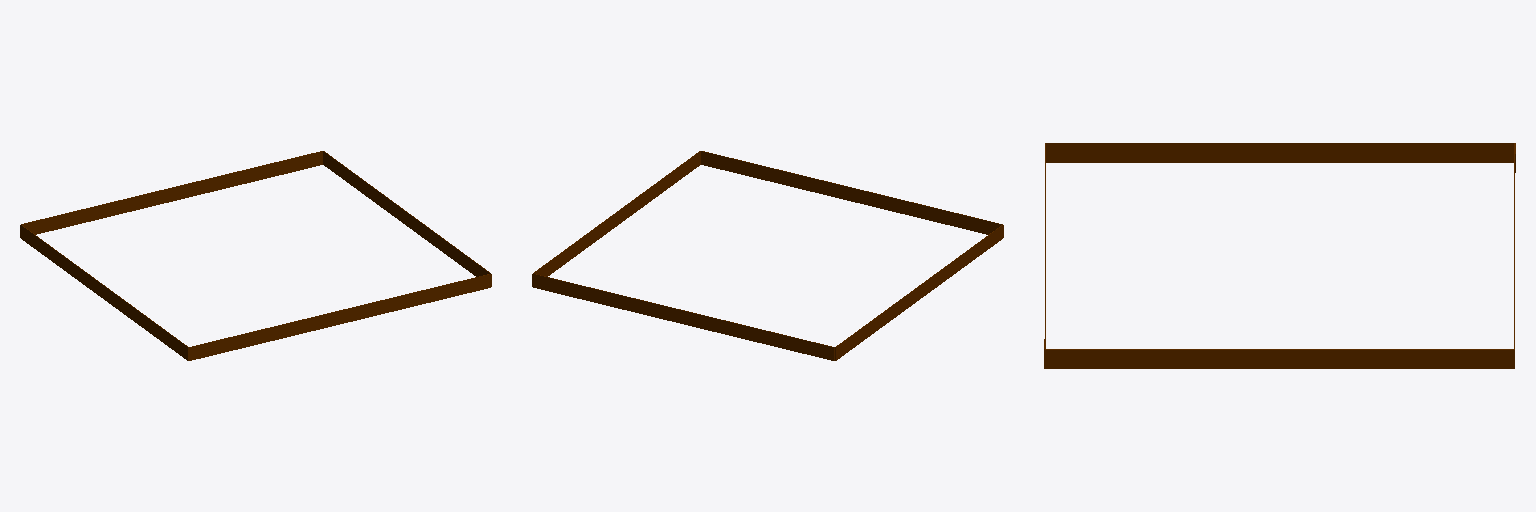
The robot description file, URDF, robot "arena":
<robot name="arena">
<link name="field_1">
<collision>
<origin xyz="0 0 0" rpy="0 -0 0" />
<geometry>
<mesh filename="goalsally.stl" />
</geometry>
<material name="goalsally_material">
<color rgba="0 0 1 1.0"/>
</material>
</collision>
<collision>
<origin xyz="0 0 0" rpy="0 -0 0" />
<geometry>
<mesh filename="goalsopponent.stl"/>
</geometry>
<material name="goalsopponent_material">
<color rgba="1 0 0 1.0"/>
</material>
</collision>
<collision>
<origin xyz="0 0 0" rpy="0 -0 0" />
<geometry>
<mesh filename="goalsallyback.stl"/>
</geometry>
<material name="goalsallyback_material">
<color rgba="0 0 1 1.0"/>
</material>
</collision>
<collision>
<origin xyz="0 0 0" rpy="0 -0 0" />
<geometry>
<mesh filename="goalsopponentback.stl"/>
</geometry>
<material name="goalsopponentback_material">
<color rgba="1 0 0 1.0"/>
</material>
</collision>
<collision>
<origin xyz="0 0 0" rpy="0 -0 0" />
<geometry>
<mesh filename="field.stl" scale="2 3 3"/>
</geometry>
<material name="field_material">
<color rgba="0.1 1 0.1 1.0"/>
</material>
</collision>
<collision>
<origin xyz="-3.06664e-16 -6.37325e-14 0" rpy="0 -0 0" />
<geometry>
<mesh filename="lines.stl" scale="2 3 3"/>
</geometry>
<material name="lines_material">
<color rgba="0.917647 0.917647 0.917647 1.0"/>
</material>
</collision>

<collision>
<origin xyz="0 0 0" rpy="0 0 0"/>
<geometry>
<box size="0.05 22 1"/>
</geometry>
<material name="Cyan1">
<color rgba="0 0 0 1.0"/>
</material>
</collision>

<inertial>
<origin xyz="0 0 0" rpy="0 0 0"/>
<mass value="0" />
<inertia ixx="0" ixy="0"  ixz="0" iyy="0" iyz="0" izz="0" />
</inertial>
<visual><geometry><box size="0 0 0" /></geometry></visual>
</link>

<link name="field_1_1">
<inertial>
<origin xyz="0 0 0" rpy="0 0 0" />
<mass value="0" />
<inertia ixx="0" ixy="0" ixz="0" iyy="0" iyz="0" izz="0" />
</inertial>
<visual>
<origin xyz="0 0 0" rpy="0 -0 0" />
<geometry>
<mesh filename="goalsally.stl"/>
</geometry>
<material name="field_1_1_visual_material">
<color rgba="0 0 1 1.0"/>
</material>
</visual>
</link>
<joint name="field_1_1_fixing" type="fixed">
<origin xyz="-3 0 0" rpy="0 -0 0" />
<parent link="field_1" />
<child link="field_1_1" />
<axis xyz="0 0 1"/>
<limit effort="1" velocity="20" />
<joint_properties friction="0.0"/>
</joint>

<link name="field_1_2">
<inertial>
<origin xyz="0 0 0" rpy="0 0 0" />
<mass value="0" />
<inertia ixx="0" ixy="0" ixz="0" iyy="0" iyz="0" izz="0" />
</inertial>
<visual>
<origin xyz="0 0 0" rpy="0 0 0" />
<geometry>
<mesh filename="goalsally.stl"/>
</geometry>
<material name="field_1_2_visual_material">
<color rgba="1 1 0 1.0"/>
</material>
</visual>
</link>
<joint name="field_1_2_fixing" type="fixed">
<origin xyz="0 3 0" rpy="0 0 -1.57" />
<parent link="field_1" />
<child link="field_1_2" />
<axis xyz="0 0 1"/>
<limit effort="1" velocity="20" />
<joint_properties friction="0.0"/>
</joint>




<link name="field_1_3">
<inertial>
<origin xyz="0 0 0" rpy="0 0 0" />
<mass value="0" />
<inertia ixx="0" ixy="0" ixz="0" iyy="0" iyz="0" izz="0" />
</inertial>
<visual>
<origin xyz="0 0 0" rpy="0 -0 0" />
<geometry>
<mesh filename="goalsopponent.stl"/>
</geometry>
<material name="field_1_3_visual_material">
<color rgba="1 0 0 1.0"/>
</material>
</visual>
</link>
<joint name="field_1_3_fixing" type="fixed">
<origin xyz="3 0 0" rpy="0 -0 0" />
<parent link="field_1" />
<child link="field_1_3" />
<axis xyz="0 0 1"/>
<limit effort="1" velocity="20" />
<joint_properties friction="0.0"/>
</joint>

<link name="field_1_4">
<inertial>
<origin xyz="0 0 0" rpy="0 0 0" />
<mass value="0" />
<inertia ixx="0" ixy="0" ixz="0" iyy="0" iyz="0" izz="0" />
</inertial>
<visual>
<origin xyz="0 0 0" rpy="0 -0 0" />
<geometry>
<mesh filename="goalsopponent.stl"/>
</geometry>
<material name="field_1_4_visual_material">
<color rgba="0.6 0 0.4 1.0"/>
</material>
</visual>
</link>
<joint name="field_1_4_fixing" type="fixed">
<origin xyz="0 -3 0" rpy="0 0 -1.57" />
<parent link="field_1" />
<child link="field_1_4" />
<axis xyz="0 0 1"/>
<limit effort="1" velocity="20" />
<joint_properties friction="0.0"/>
</joint>



<link name="field_1_5">
<inertial>
<origin xyz="0 0 0" rpy="0 0 0" />
<mass value="0" />
<inertia ixx="0" ixy="0" ixz="0" iyy="0" iyz="0" izz="0" />
</inertial>
<visual>
<origin xyz="0 0 0" rpy="0 0 0" />
<geometry>
<mesh filename="goalsallyback.stl"/>
</geometry>
<material name="field_1_5_visual_material">
<color rgba="0 0 1 1.0"/>
</material>
</visual>
</link>
<joint name="field_1_5_fixing" type="fixed">
<origin xyz="-3 0 0" rpy="0 -0 0" />
<parent link="field_1" />
<child link="field_1_5" />
<axis xyz="0 0 1"/>
<limit effort="1" velocity="20" />
<joint_properties friction="0.0"/>
</joint>

<link name="field_1_6">
<inertial>
<origin xyz="0 0 0" rpy="0 0 0" />
<mass value="0" />
<inertia ixx="0" ixy="0" ixz="0" iyy="0" iyz="0" izz="0" />
</inertial>
<visual>
<origin xyz="0 0 0" rpy="0 0 0" />
<geometry>
<mesh filename="goalsallyback.stl"/>
</geometry>
<material name="field_1_6_visual_material">
<color rgba="1 1 0 1.0"/>
</material>
</visual>
</link>
<joint name="field_1_6_fixing" type="fixed">
<origin xyz="0 3 0" rpy="0 0 -1.57" />
<parent link="field_1" />
<child link="field_1_6" />
<axis xyz="0 0 1"/>
<limit effort="1" velocity="20" />
<joint_properties friction="0.0"/>
</joint>

<link name="field_1_7">
<inertial>
<origin xyz="0 0 0" rpy="0 0 0" />
<mass value="0" />
<inertia ixx="0" ixy="0" ixz="0" iyy="0" iyz="0" izz="0" />
</inertial>
<visual>
<origin xyz="0 0 0" rpy="0 -0 0" />
<geometry>
<mesh filename="goalsopponentback.stl"/>
</geometry>
<material name="field_1_7_visual_material">
<color rgba="1 0 0 1.0"/>
</material>
</visual>
</link>
<joint name="field_1_7_fixing" type="fixed">
<origin xyz="3 0 0" rpy="0 0 0" />
<parent link="field_1" />
<child link="field_1_7" />
<axis xyz="0 0 1"/>
<limit effort="1" velocity="20" />
<joint_properties friction="0.0"/>
</joint>

<link name="field_1_8">
<inertial>
<origin xyz="0 0 0" rpy="0 0 0" />
<mass value="0" />
<inertia ixx="0" ixy="0" ixz="0" iyy="0" iyz="0" izz="0" />
</inertial>
<visual>
<origin xyz="0 0 0" rpy="0 -0 0" />
<geometry>
<mesh filename="goalsopponentback.stl"/>
</geometry>
<material name="field_1_8_visual_material">
<color rgba="0.6 0 0.4 1.0"/>
</material>
</visual>
</link>
<joint name="field_1_8_fixing" type="fixed">
<origin xyz="0 -3 0" rpy="0 0 -1.57" />
<parent link="field_1" />
<child link="field_1_8" />
<axis xyz="0 0 1"/>
<limit effort="1" velocity="20" />
<joint_properties friction="0.0"/>
</joint>

<link name="field_1_10">
<inertial>
<origin xyz="0 0 0" rpy="0 0 0" />
<mass value="0" />
<inertia ixx="0" ixy="0" ixz="0" iyy="0" iyz="0" izz="0" />
</inertial>
<visual>
<origin xyz="0 0 0" rpy="0 -0 0" />
<geometry>
<mesh filename="field.stl" scale="2.2 3 3"/>
</geometry>
<material name="field_1_10_visual_material">
<color rgba="0 0.3 0 1"/>
</material>
</visual>
</link>
<joint name="field_1_10_fixing" type="fixed">
<origin xyz="0 0 0" rpy="0 -0 0" />
<parent link="field_1" />
<child link="field_1_10" />
<axis xyz="0 0 1"/>
<limit effort="1" velocity="20" />
<joint_properties friction="0.0"/>
</joint>

<link name="field_1_9">
<inertial>
<origin xyz="0 0 0" rpy="0 0 0" />
<mass value="0" />
<inertia ixx="0" ixy="0" ixz="0" iyy="0" iyz="0" izz="0" />
</inertial>
<visual>
<origin xyz="-3.06664e-16 -6.37325e-14 0" rpy="0 -0 0" />
<geometry>
<mesh filename="lines.stl" scale="2 3 3"/>
</geometry>
<material name="field_1_9_visual_material">
<color rgba="0.917647 0.917647 0.917647 1.0"/>
</material>
</visual>
</link>
<joint name="field_1_9_fixing" type="fixed">
<origin xyz="0 0 0" rpy="0 -0 0" />
<parent link="field_1" />
<child link="field_1_9" />
<axis xyz="0 0 1"/>
<limit effort="1" velocity="20" />
<joint_properties friction="0.0"/>
</joint>

<link name="field_1_11">
<inertial>
<origin xyz="0 0 0" rpy="0 0 0" />
<mass value="0" />
<inertia ixx="0" ixy="0" ixz="0" iyy="0" iyz="0" izz="0" />
</inertial>
<visual>
<origin xyz="-3.06664e-16 -6.37325e-14 0" rpy="0 0 1.57" />
<geometry>
<mesh filename="lines.stl" scale="2 3 3"/>
</geometry>
<material name="field_1_11_visual_material">
<color rgba="0.917647 0.917647 0.917647 1.0"/>
</material>
</visual>
</link>
<joint name="field_1_11_fixing" type="fixed">
<origin xyz="0 0 0" rpy="0 -0 0" />
<parent link="field_1" />
<child link="field_1_11" />
<axis xyz="0 0 1"/>
<limit effort="1" velocity="20" />
<joint_properties friction="0.0"/>
</joint>

<link name="field_1_20">
<inertial>
<origin xyz="0 0 0" rpy="0 0 0" />
<mass value="0" />
<inertia ixx="0" ixy="0" ixz="0" iyy="0" iyz="0" izz="0" />
</inertial>
<visual>
<origin xyz="0 11 0.5" rpy="0 0 1.57" />
<geometry>
<box size="0.05 22.8 1"/>
</geometry>
<material name="field_1_20_visual_material">
<color rgba="0.4 0.2 0 1.0"/>
</material>
</visual>
</link>
<joint name="field_1_20_fixing" type="fixed">
<origin xyz="0 0 0" rpy="0 -0 0" />
<parent link="field_1" />
<child link="field_1_20" />
<axis xyz="0 0 1"/>
<limit effort="1" velocity="20" />
<joint_properties friction="0.0"/>
</joint>

<link name="field_1_21">
<inertial>
<origin xyz="0 0 0" rpy="0 0 0" />
<mass value="0" />
<inertia ixx="0" ixy="0" ixz="0" iyy="0" iyz="0" izz="0" />
</inertial>
<visual>
<origin xyz="0 -11 0.5" rpy="0 0 1.57" />
<geometry>
<box size="0.05 22.8 1"/>
</geometry>
<material name="field_1_21_visual_material">
<color rgba="0.4 0.2 0 1.0"/>
</material>
</visual>
</link>
<joint name="field_1_21_fixing" type="fixed">
<origin xyz="0 0 0" rpy="0 -0 0" />
<parent link="field_1" />
<child link="field_1_21" />
<axis xyz="0 0 1"/>
<limit effort="1" velocity="20" />
<joint_properties friction="0.0"/>
</joint>

<link name="field_1_22">
<inertial>
<origin xyz="0 0 0" rpy="0 0 0" />
<mass value="0" />
<inertia ixx="0" ixy="0" ixz="0" iyy="0" iyz="0" izz="0" />
</inertial>
<visual>
<origin xyz="11.44 0 0.5" rpy="0 0 0" />
<geometry>
<box size="0.05 22 1"/>
</geometry>
<material name="field_1_22_visual_material">
<color rgba="0.4 0.2 0 1.0"/>
</material>
</visual>
</link>
<joint name="field_1_22_fixing" type="fixed">
<origin xyz="0 0 0" rpy="0 0 0" />
<parent link="field_1" />
<child link="field_1_22" />
<axis xyz="0 0 1"/>
<limit effort="1" velocity="20" />
<joint_properties friction="0.0"/>
</joint>

<link name="field_1_23">
<inertial>
<origin xyz="0 0 0" rpy="0 0 0" />
<mass value="0" />
<inertia ixx="0" ixy="0" ixz="0" iyy="0" iyz="0" izz="0" />
</inertial>
<visual>
<origin xyz="-11.44 0 0.5" rpy="0 0 0" />
<geometry>
<box size="0.05 22 1"/>
</geometry>
<material name="field_1_23_visual_material">
<color rgba="0.4 0.2 0 1.0"/>
</material>
</visual>
</link>
<joint name="field_1_23_fixing" type="fixed">
<origin xyz="0 0 0" rpy="0 0 0" />
<parent link="field_1" />
<child link="field_1_23" />
<axis xyz="0 0 1"/>
<limit effort="1" velocity="20" />
<joint_properties friction="0.0"/>
</joint>

</robot>

--- What the picture shows (computed from the rendered views, not written in the file) ---
The picture shows the robot from 3 angles, left to right: view 1: azimuth 30°, elevation 25°; view 2: azimuth 150°, elevation 25°; view 3: azimuth 270°, elevation 25°; orthographic projection.
Robot: arena — 16 links, 15 joints (15 fixed); root link field_1; default pose: all joints at 0.
Visible links, largest first — view 1: field_1_21, field_1_20, field_1_23, field_1_22; view 2: field_1_20, field_1_21, field_1_23, field_1_22; view 3: field_1_22, field_1_23.
Link boxes in pixels (x1=…): field_1_21: x1=189, y1=274, x2=490, y2=360; field_1_20: x1=21, y1=151, x2=322, y2=234; field_1_23: x1=20, y1=225, x2=188, y2=360; field_1_22: x1=323, y1=151, x2=491, y2=286; field_1_20: x1=533, y1=274, x2=834, y2=360; field_1_21: x1=701, y1=151, x2=1002, y2=234; field_1_23: x1=835, y1=225, x2=1003, y2=360; field_1_22: x1=532, y1=151, x2=700, y2=286; field_1_22: x1=1045, y1=349, x2=1514, y2=368; field_1_23: x1=1046, y1=143, x2=1513, y2=162.
Size in the robot's own frame: 22.93 by 22.07 by 1 metres.
0 mesh visuals loaded from 6 distinct referenced files (none loaded); not drawn: 11 (reference not matched to a file when rendering).